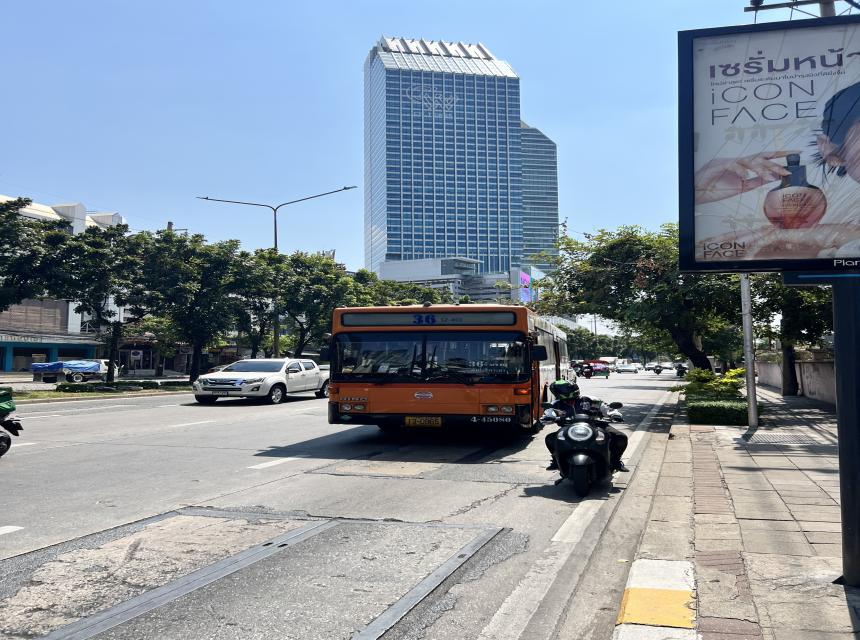BMTA-bus: (325, 304, 559, 433)
Bus Line Number: (406, 312, 466, 326)
Destination Sign: (466, 359, 511, 374), (464, 415, 517, 424)
